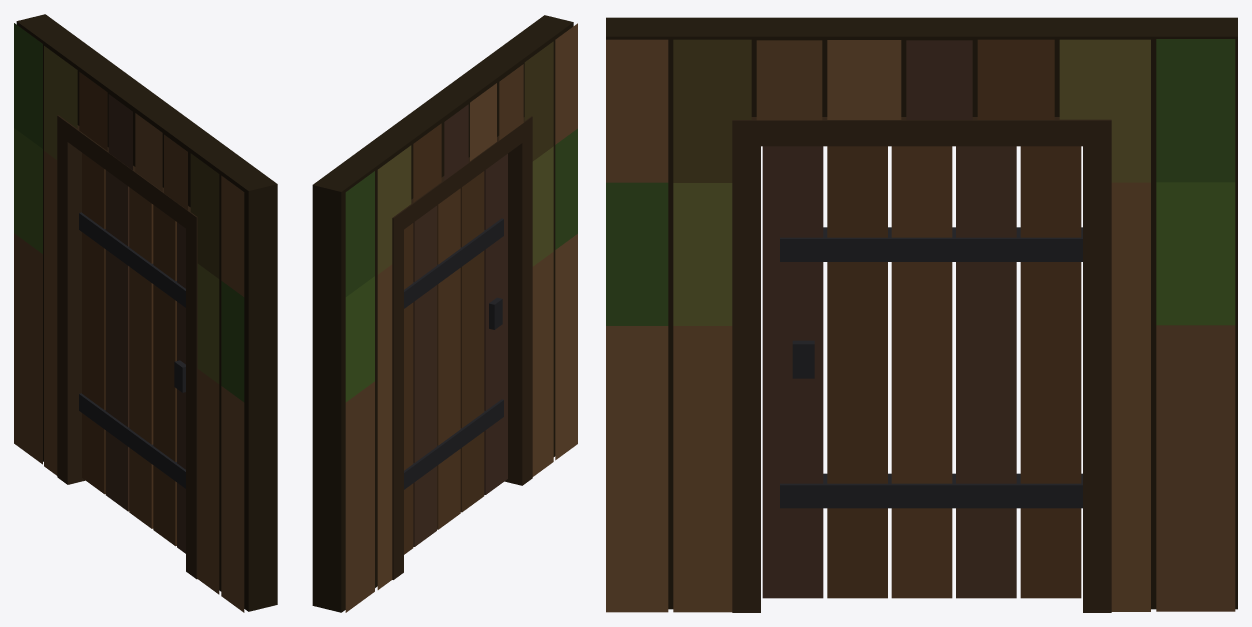
Rendered from wall-mossy-door.glb.
The picture shows the model from 3 angles, left to right: view 1: azimuth 30°, elevation 25°; view 2: azimuth 150°, elevation 25°; view 3: azimuth 270°, elevation 25°; orthographic projection. The views are drawn at different scales.
Visible parts, largest first — view 1: wall-mossy-door; view 2: wall-mossy-door; view 3: wall-mossy-door.
Part boxes in pixels (bbox=[...]): wall-mossy-door: bbox=[14, 14, 277, 612]; wall-mossy-door: bbox=[312, 15, 577, 612]; wall-mossy-door: bbox=[606, 17, 1237, 612].
Size of the model in its own units: 0.1 by 1 by 1.
